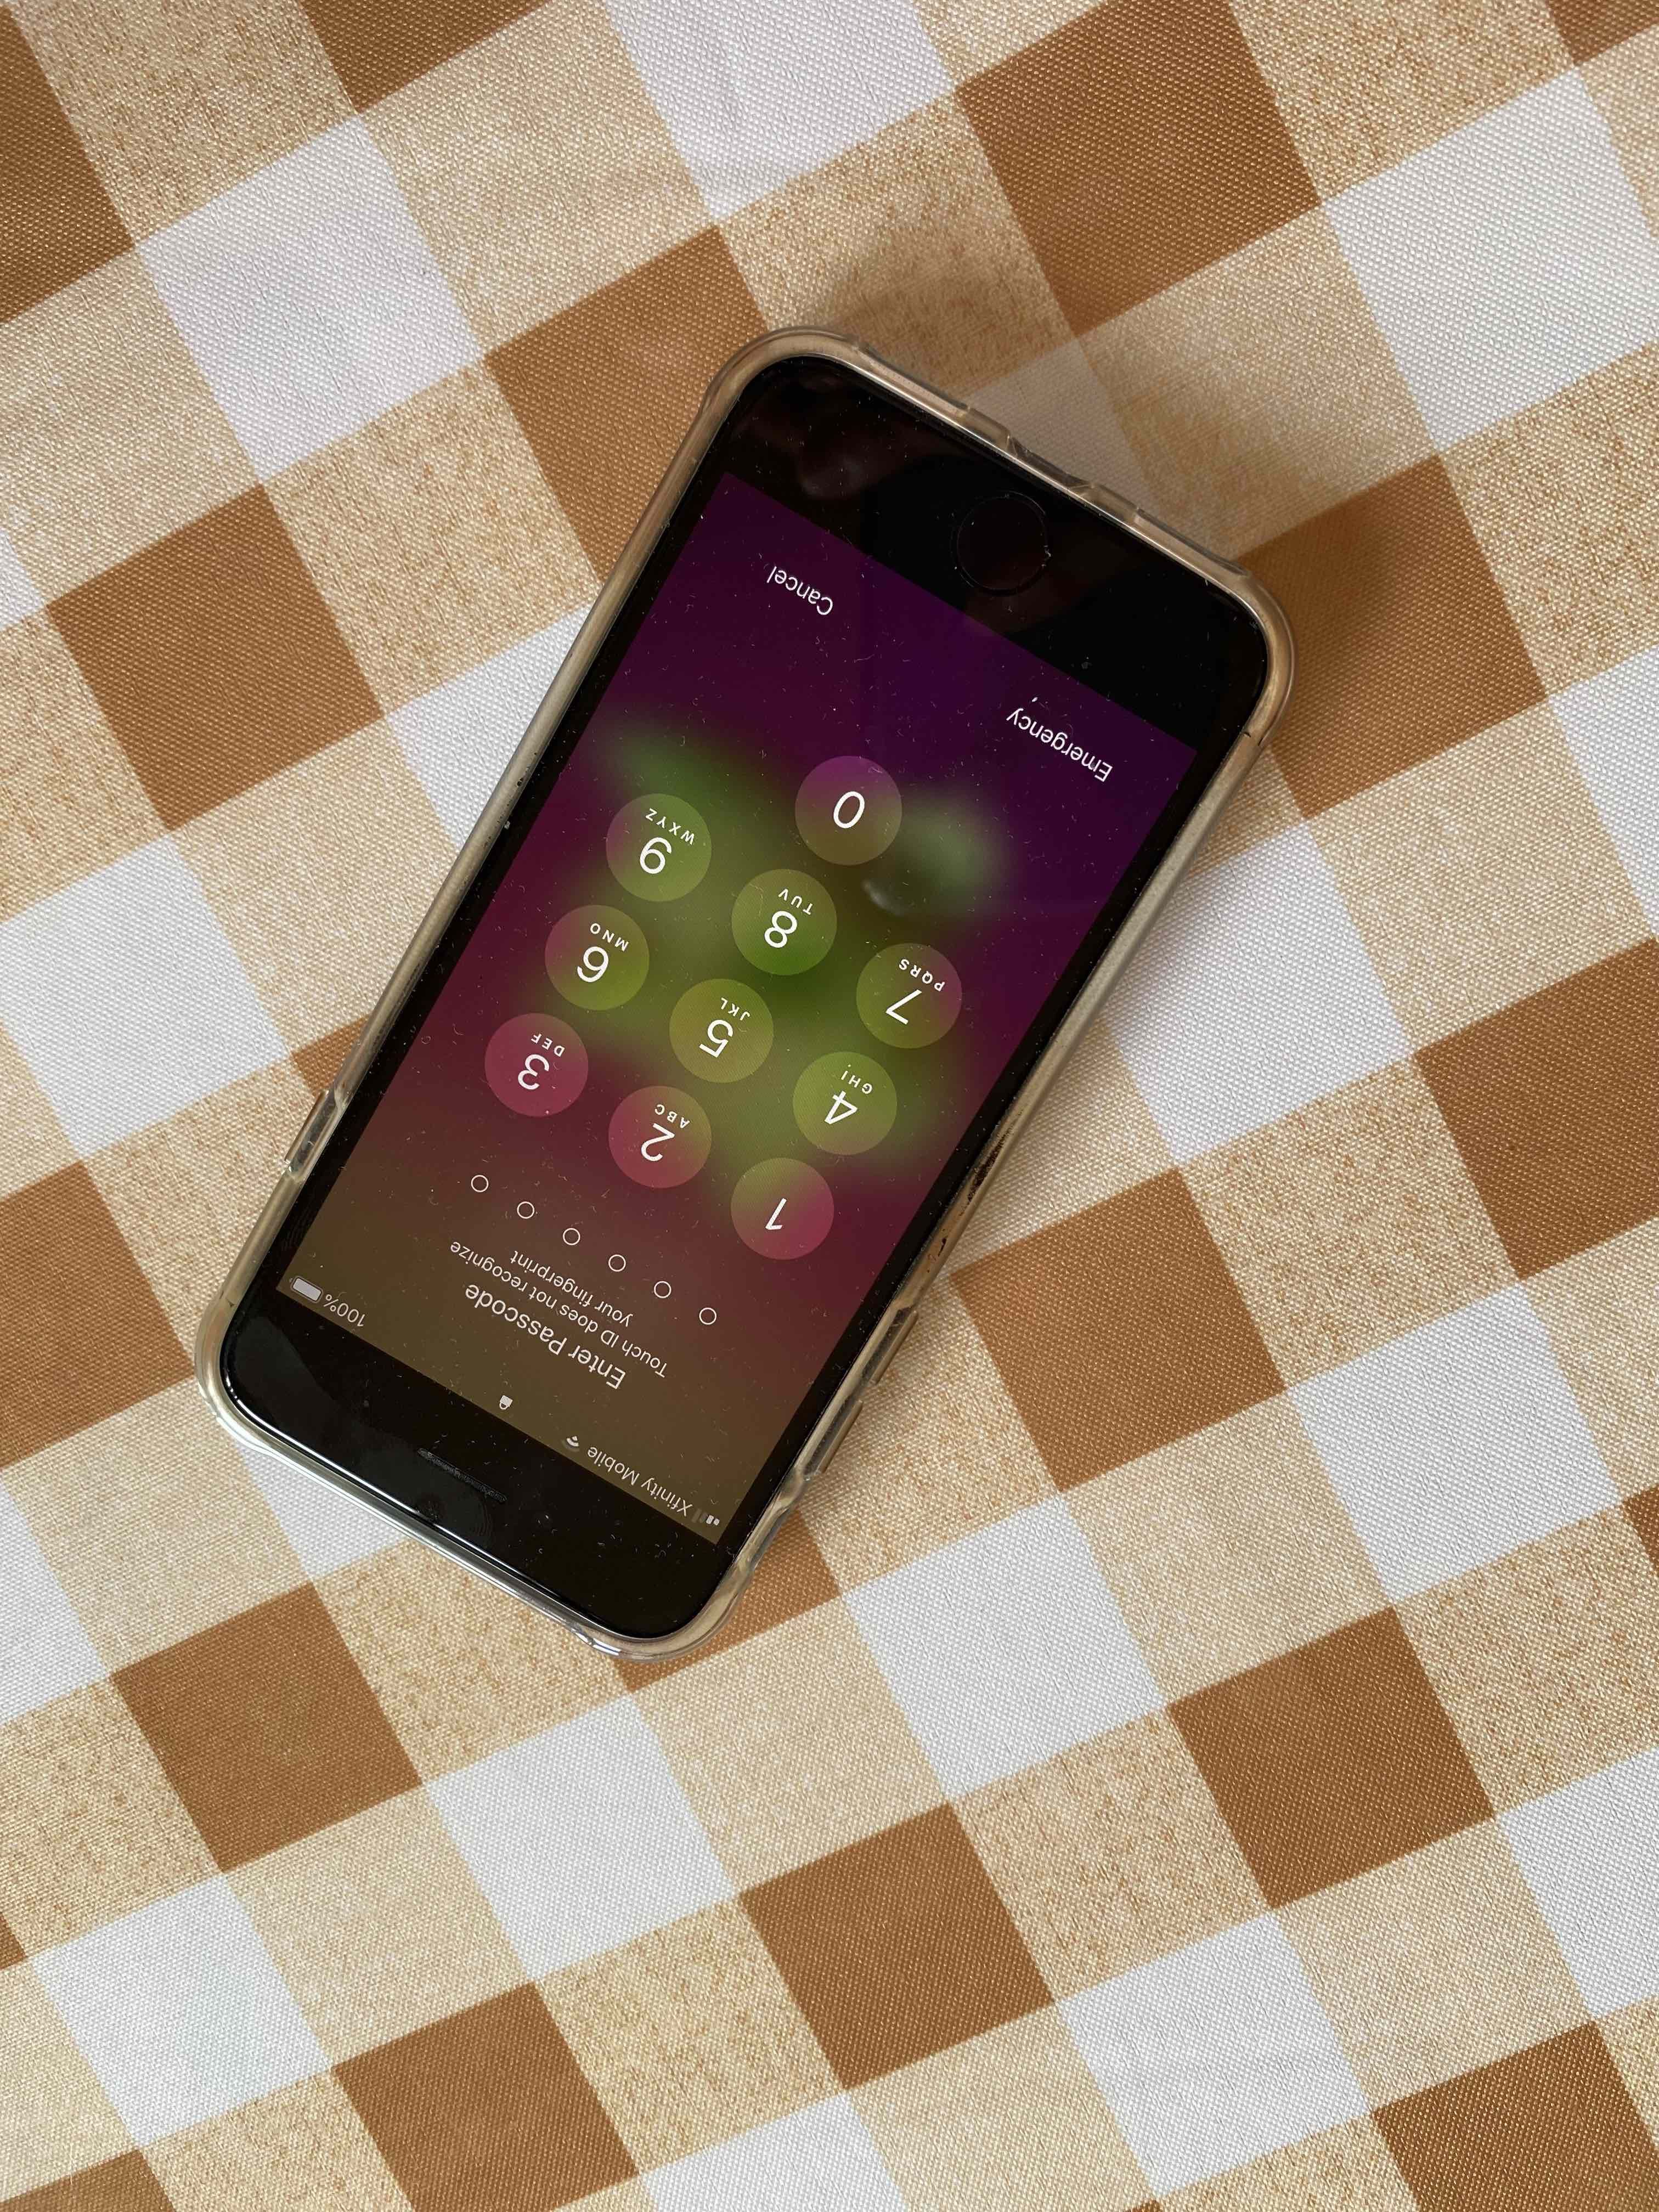Cell Phone: (213, 336, 1286, 1663)
